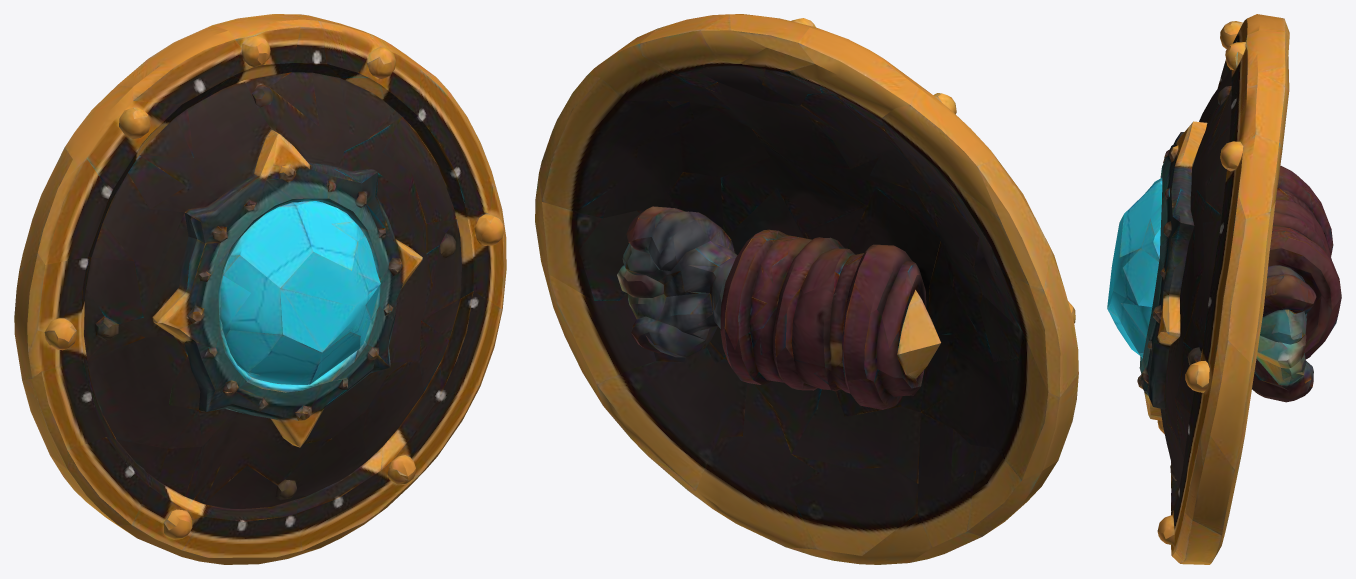
The model's file is powerup-shield.lod.glb.
The picture shows the model from 3 angles, left to right: view 1: azimuth 30°, elevation 25°; view 2: azimuth 150°, elevation 25°; view 3: azimuth 270°, elevation 25°; orthographic projection. The views are drawn at different scales.
Size of the model in its own units: 1.88 by 1.9 by 0.8036.
1 material, 1 textured.
